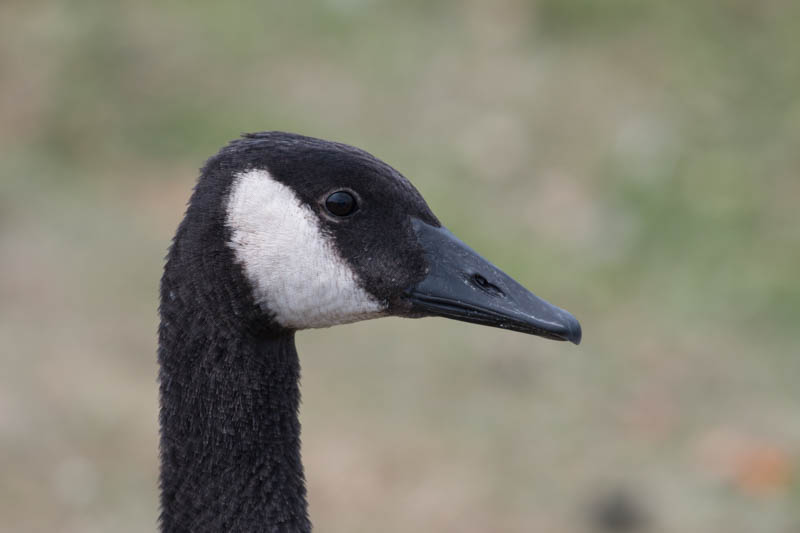goose-head: (160, 131, 582, 347)
